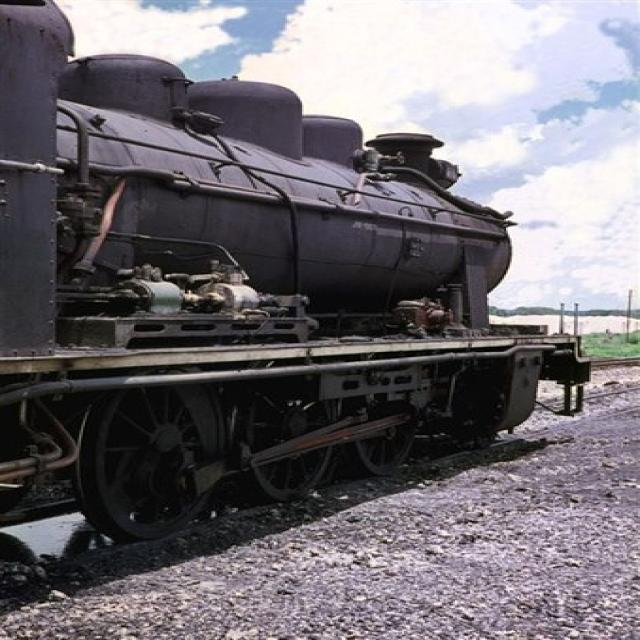train: (0, 0, 594, 600)
